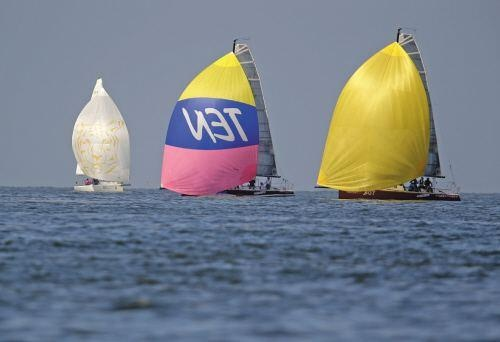fanchuan: (315, 26, 467, 203), (157, 39, 297, 197), (71, 71, 132, 192)
